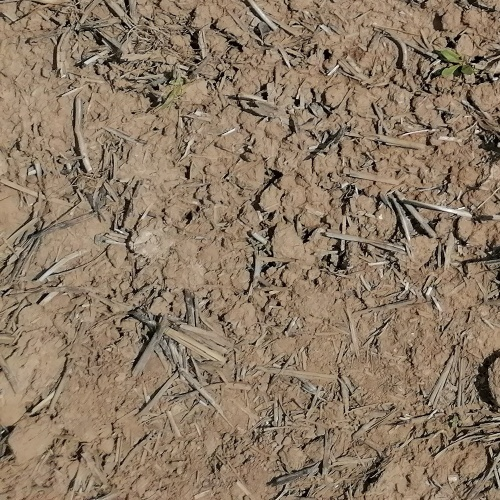beet: (438, 46, 478, 81)
